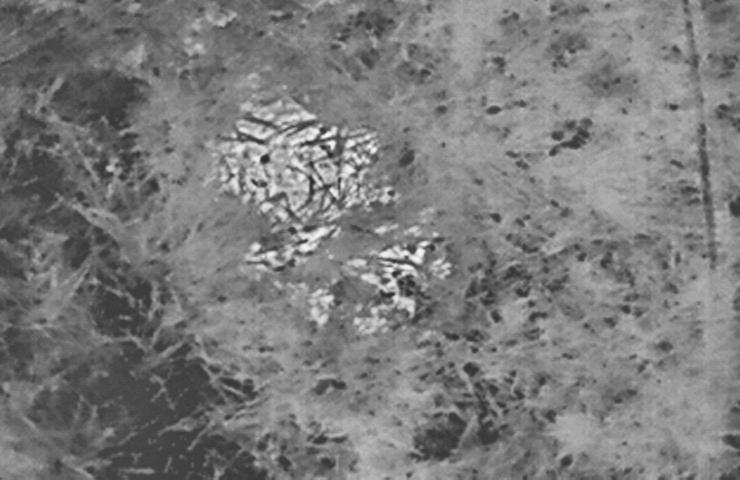landmines: (215, 84, 394, 252)
